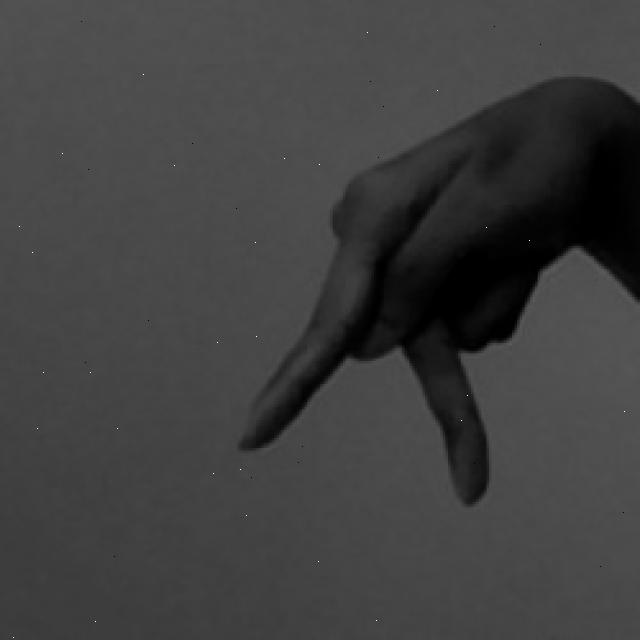P: (228, 69, 640, 518)
